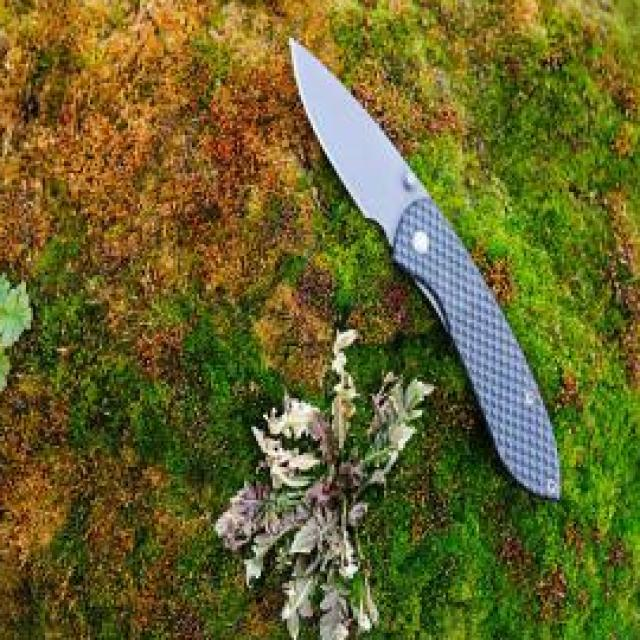knife: (290, 40, 566, 502)
